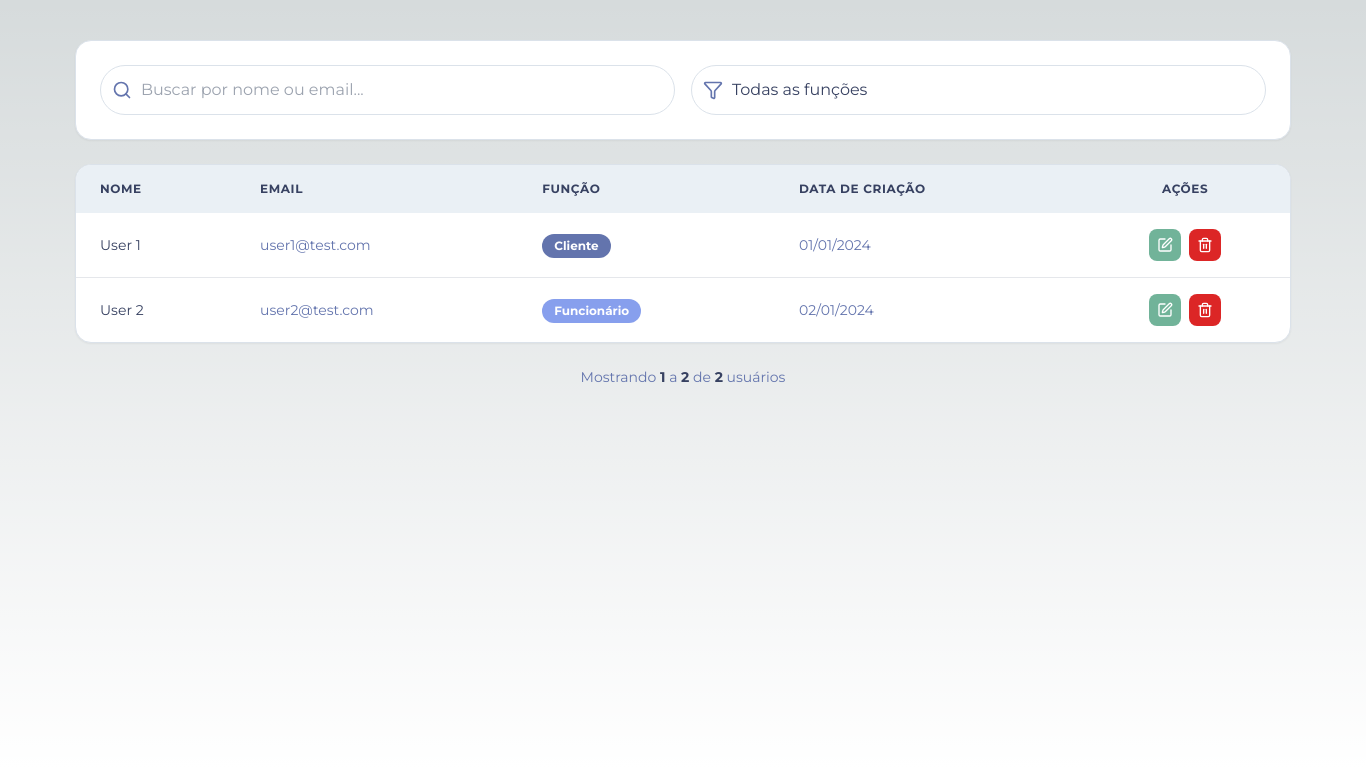
Test case: UserManagement › deve cancelar exclusão ao clicar em cancelar
Expected: the text "User 1" is shown, [100,236,141,254]
Click the button titled "Excluir usuário" in the row of "User 1". click: x=1205, y=245
box: [1189,229,1221,261]
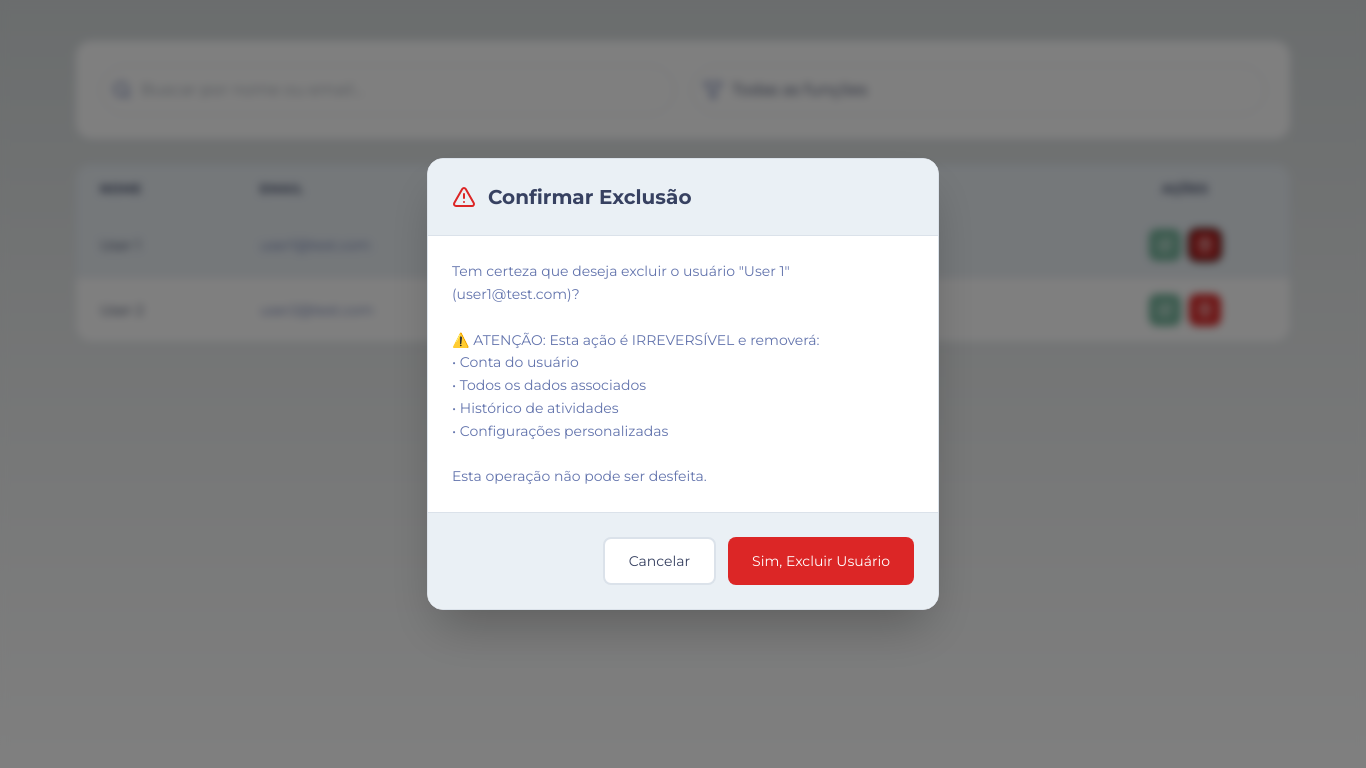
Click the button "Cancelar". click: x=659, y=561
box: [603,537,716,585]
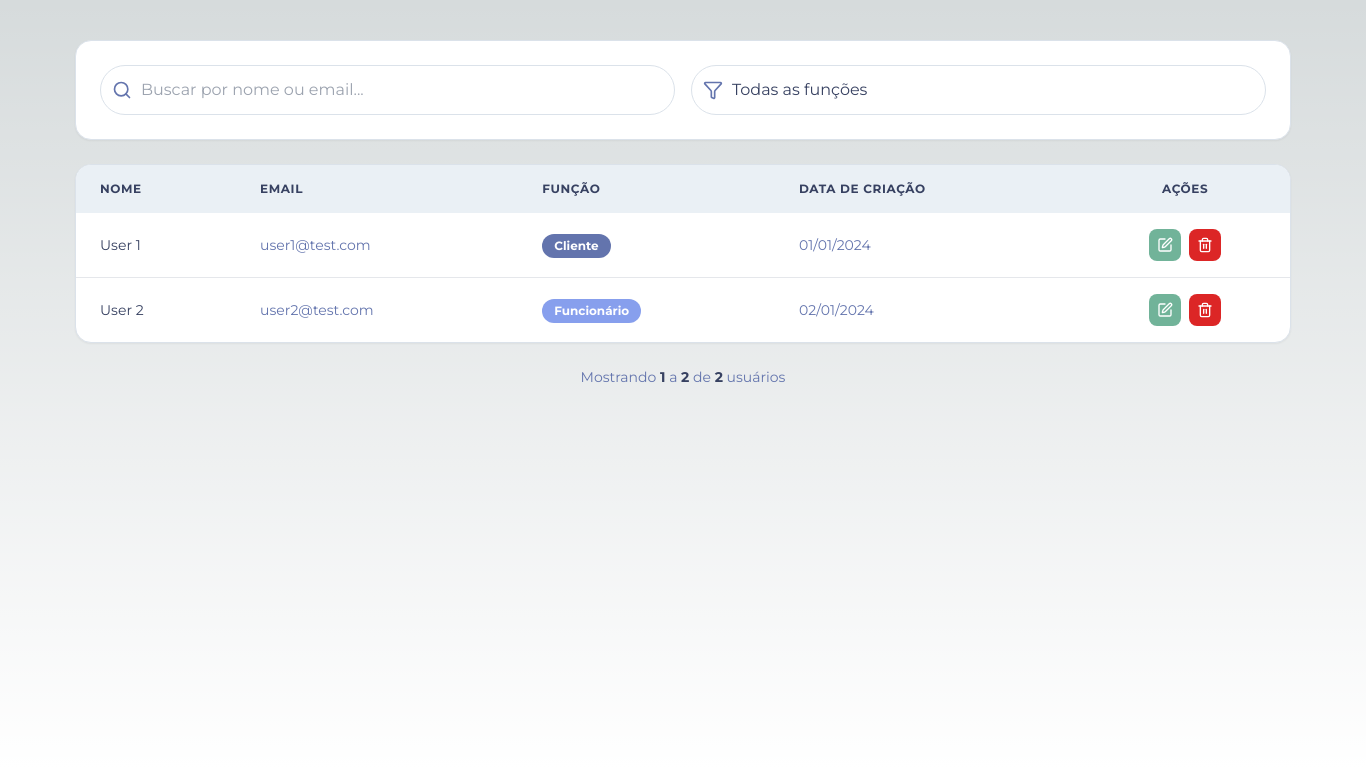
Now the heading "Confirmar Exclusão" is gone
